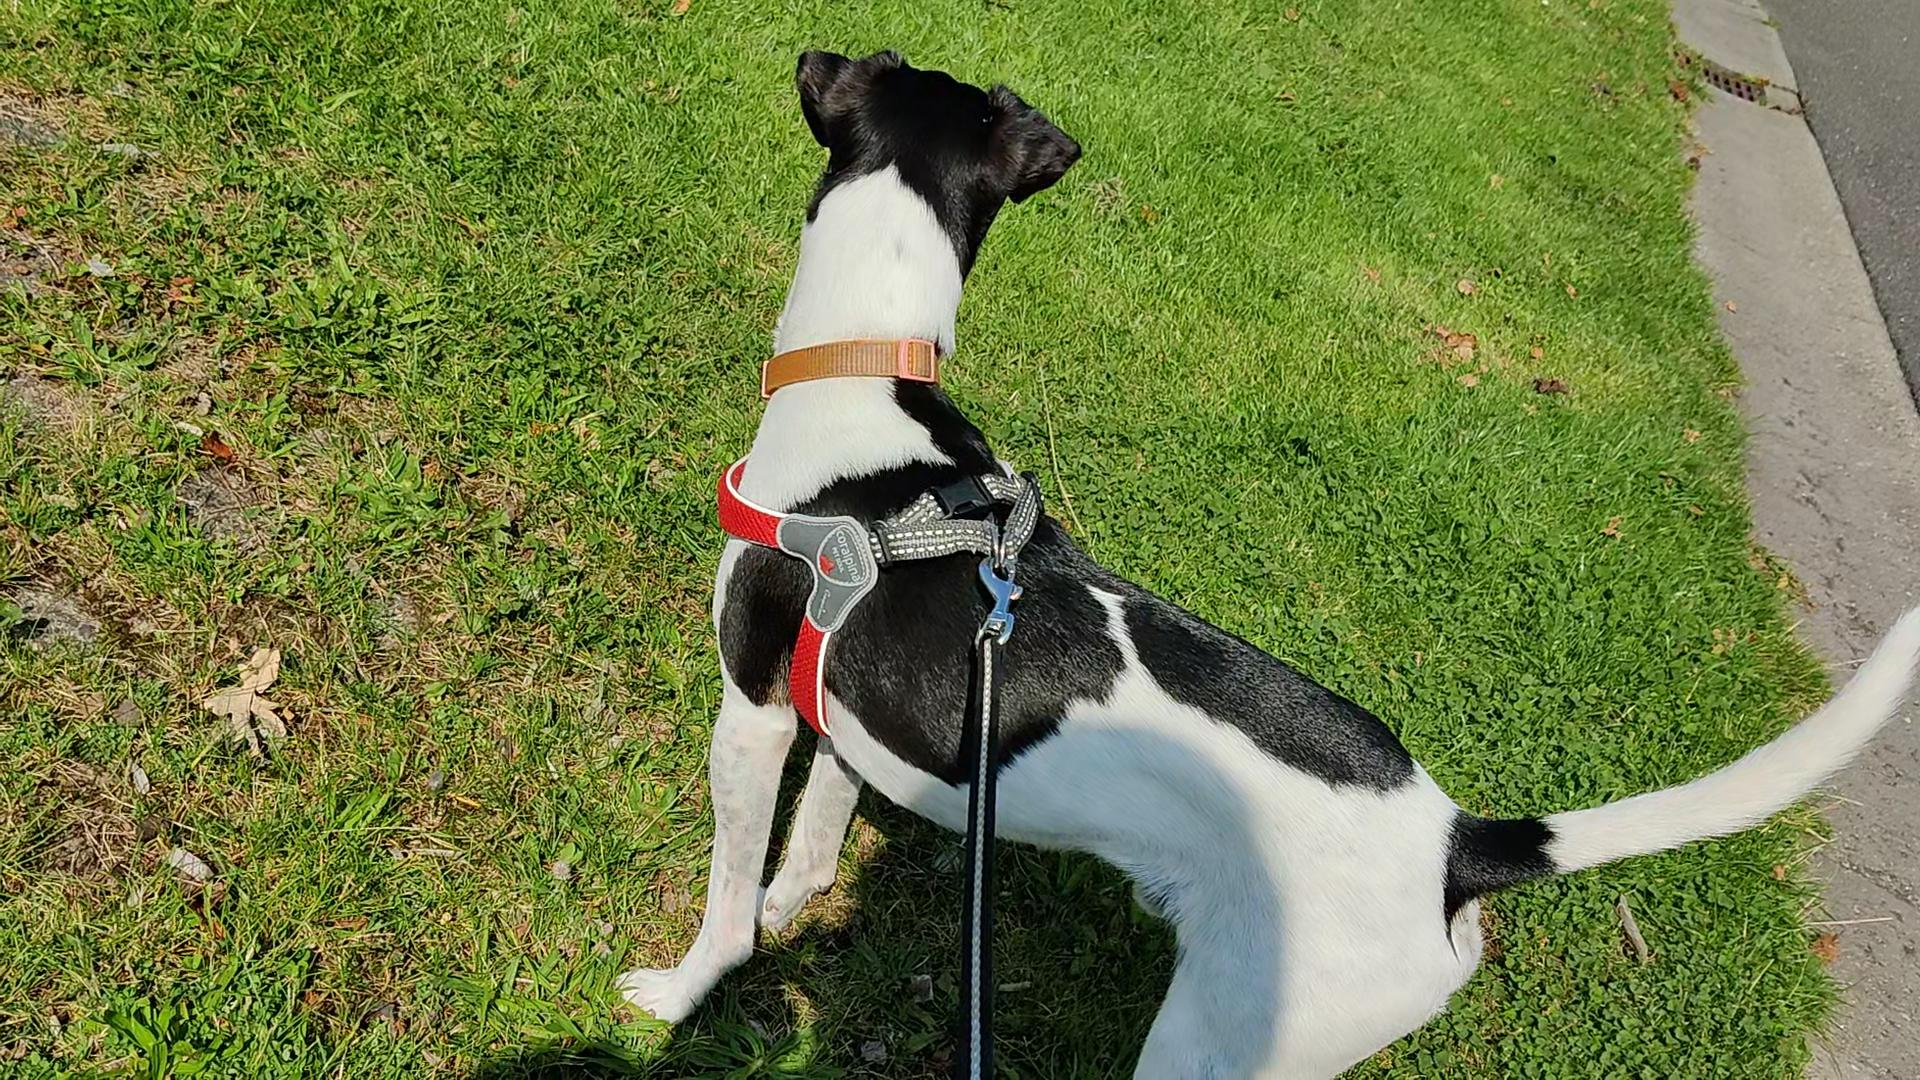Dog: (611, 41, 1919, 1079)
